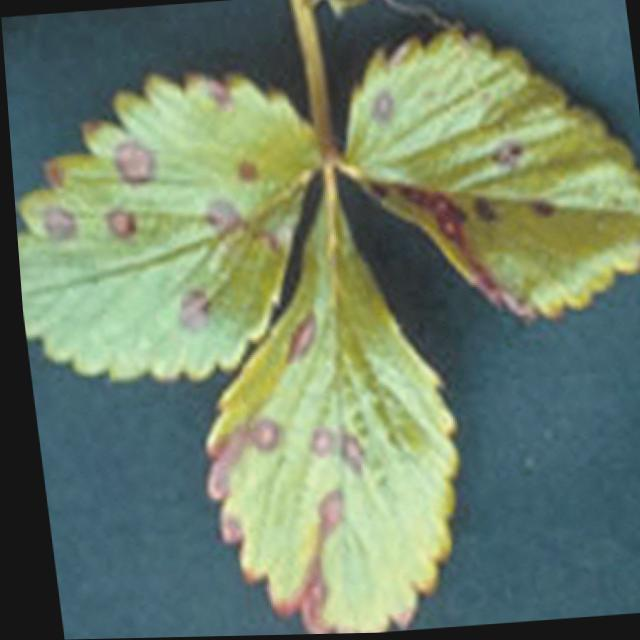Leaf Spot: (193, 170, 456, 635), (11, 69, 323, 383), (340, 23, 640, 331)
